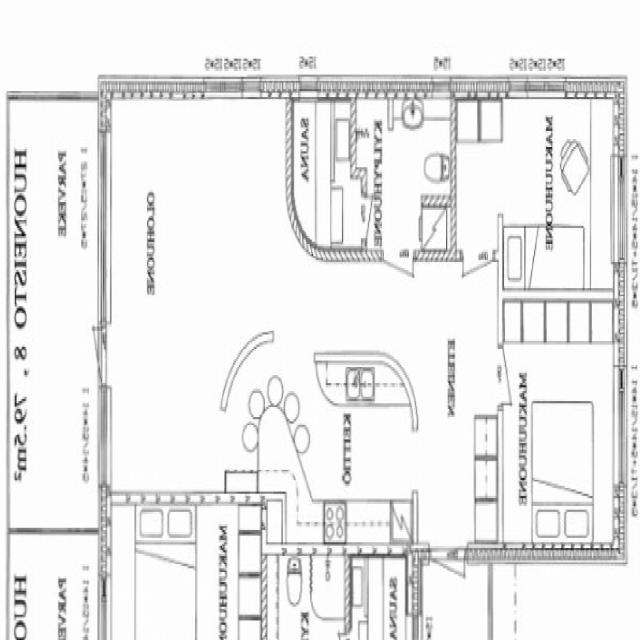door: (430, 543, 466, 633), (67, 324, 111, 382), (462, 250, 494, 322), (497, 348, 533, 405), (383, 251, 412, 317), (362, 196, 390, 239)
